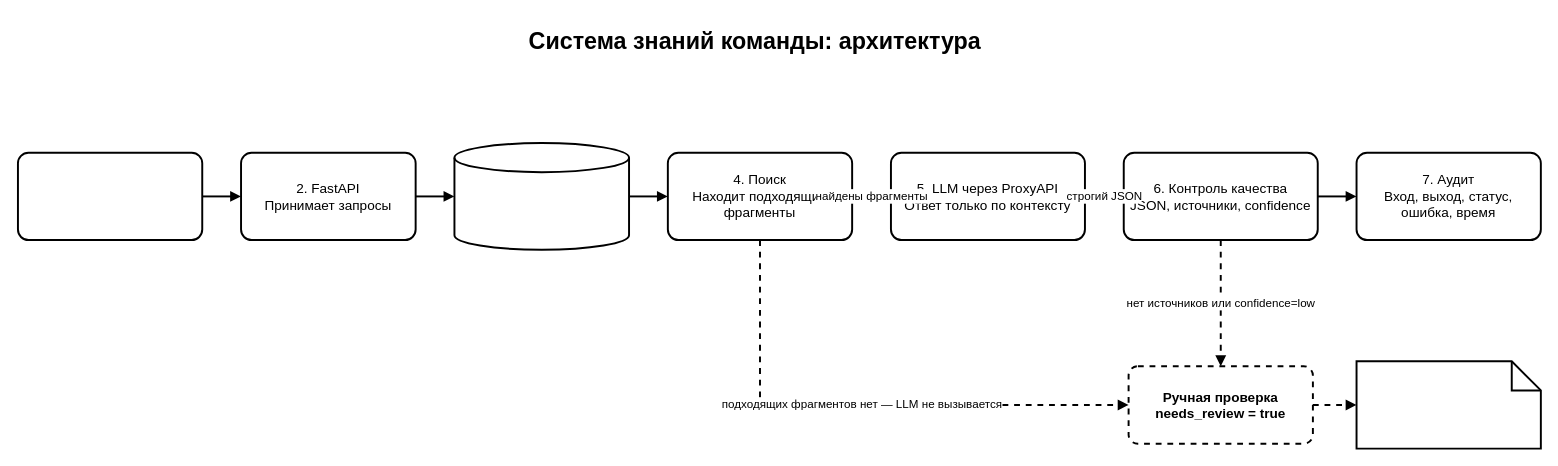
This 1558x466 diagram has some shape labels left out. Each missing label, with the box of its shape:
1. Веб-панель Документы, вопросы, история: (16, 151, 203, 241)
3. SQLite Документы, фрагменты, вопросы: (453, 142, 630, 250)
Безопасный ответ: «Данных недостаточно»: (1355, 360, 1541, 449)
